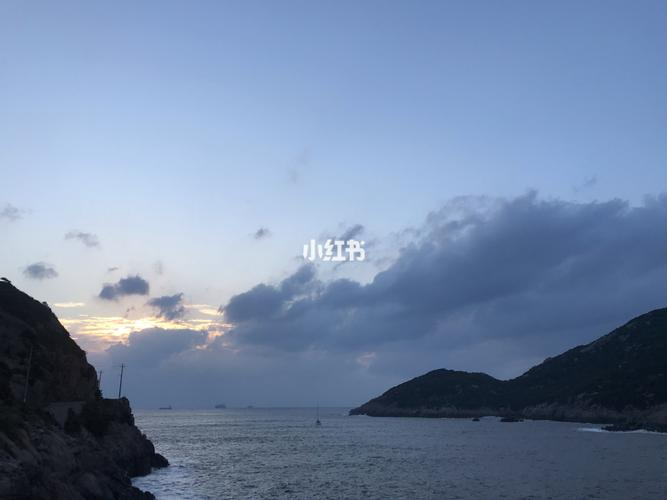mountain: (137, 194, 656, 389), (352, 306, 667, 428), (0, 283, 138, 468)
sky_cloud: (85, 192, 647, 353)
